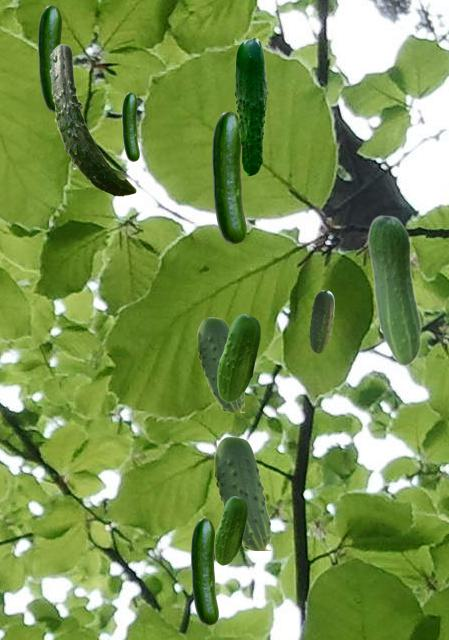cucumber: (49, 44, 135, 195), (367, 214, 421, 365), (214, 436, 269, 549), (234, 37, 267, 175), (212, 111, 245, 243), (197, 317, 243, 411), (217, 314, 259, 401), (191, 518, 217, 624), (38, 5, 62, 111), (214, 496, 246, 564), (309, 290, 333, 352), (122, 92, 138, 160)
